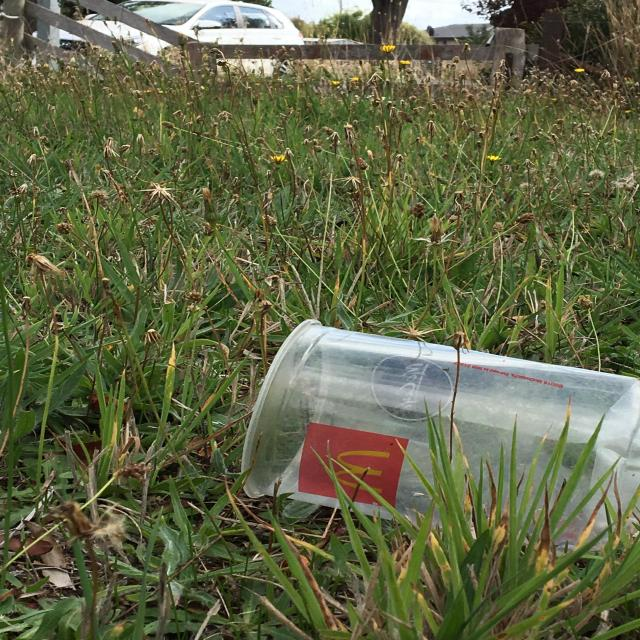Disposable plastic cup: (241, 319, 639, 555)
